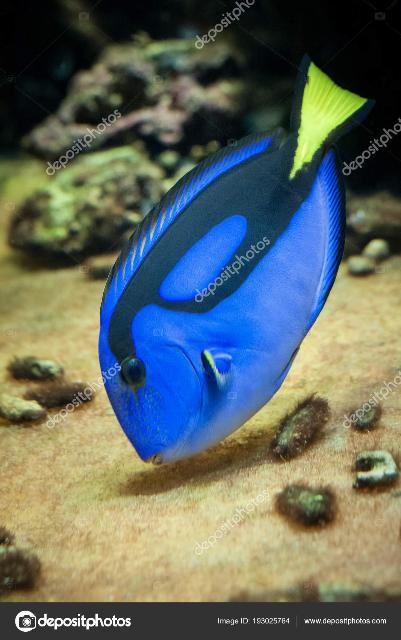Mulut: (99, 418, 201, 502)
Sirip Anal: (303, 139, 353, 325)
Sirip Dada: (168, 318, 264, 418)
Sirip Ekor: (264, 30, 386, 188)
Sirip Perut: (262, 333, 326, 419)
Sirip Punggung: (96, 108, 292, 320)
